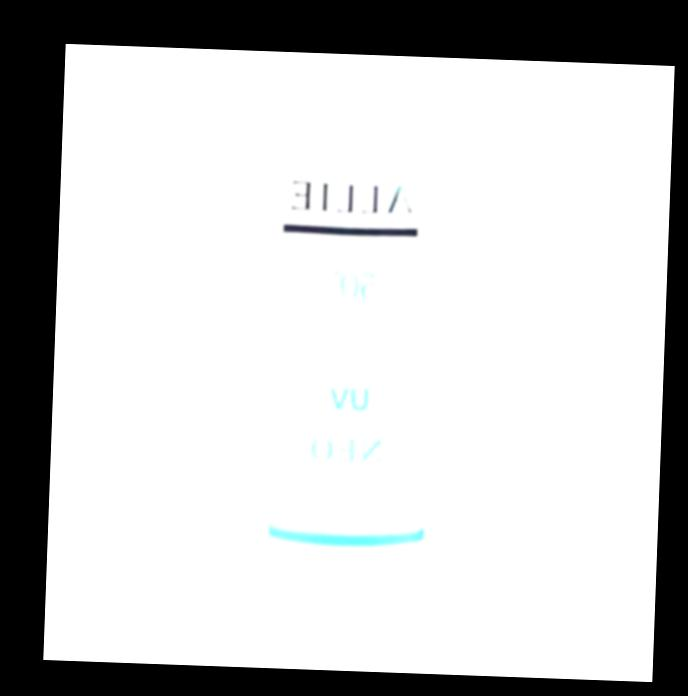cosmetic: (231, 85, 471, 635)
